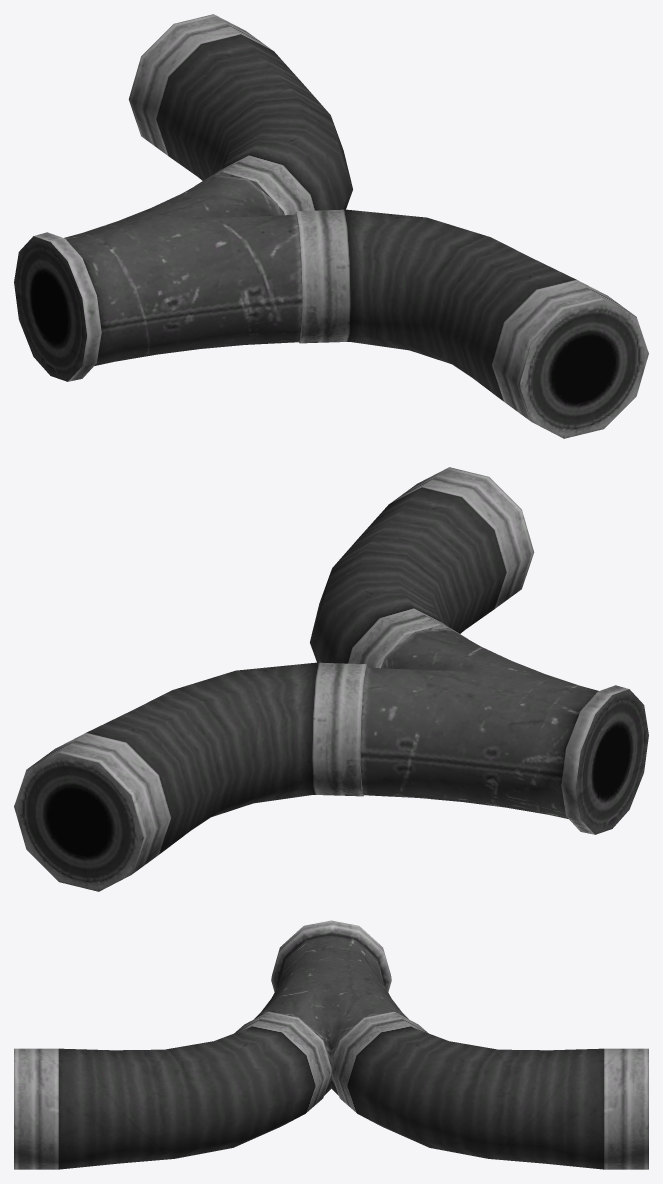
The model's file is lab_split_y.dae.
3 renders of one model, top to bottom at view 1: azimuth 30°, elevation 25°; view 2: azimuth 150°, elevation 25°; view 3: azimuth 270°, elevation 25°, orthographic. The views are drawn at different scales.
Visible parts, largest first — view 1: split_y; view 2: split_y; view 3: split_y.
Part boxes in pixels (x1,y1,x2,y2): split_y: [14, 14, 648, 438]; split_y: [14, 467, 648, 891]; split_y: [14, 920, 648, 1169].
Bounding box in the file's own units: 0.4469 × 0.1419 × 0.75.
